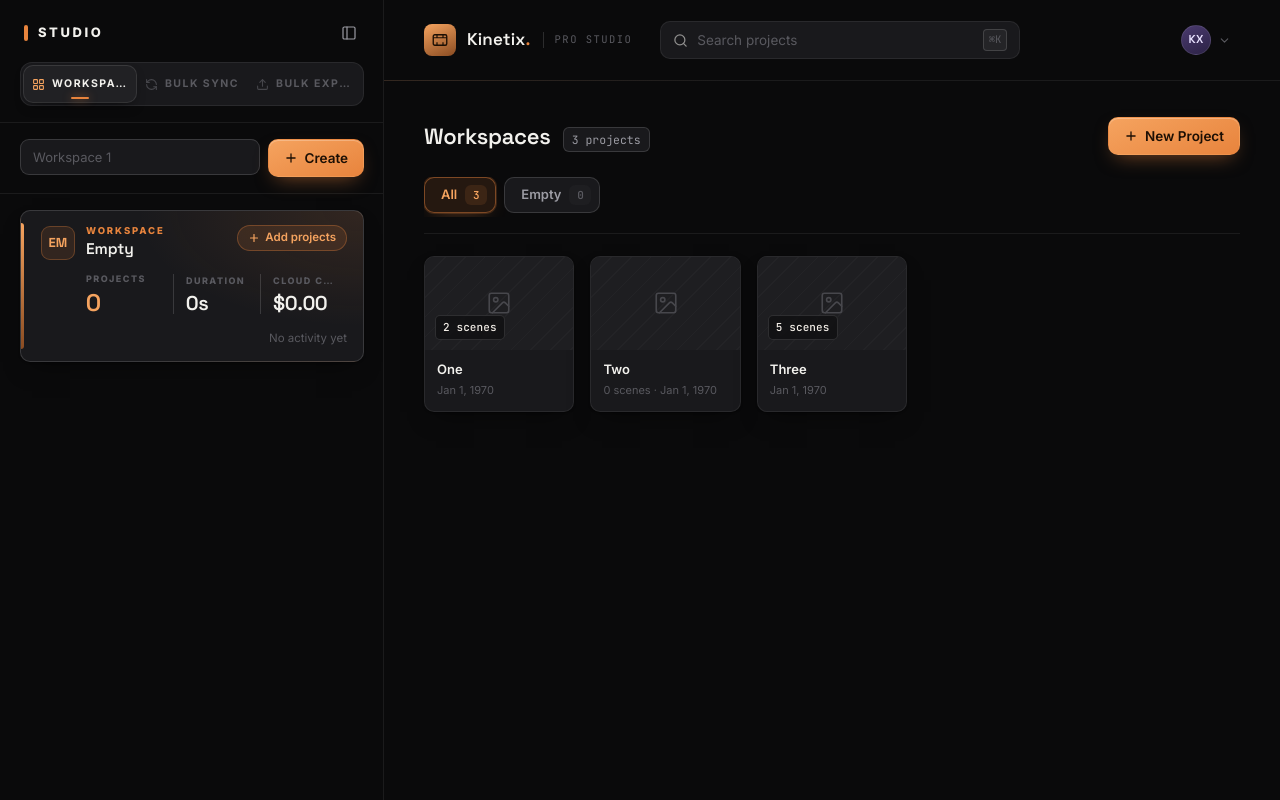
Test: right panel — workspace tabs above the grid › an empty workspace says so; card content is unchanged (title, scene badge)
Expected: the button with test id "project-card-p1" shows "One", [424,256,574,412]
Expected: the button with test id "project-card-p1" shows "2 scenes", [424,256,574,412]
Click the tab "Empty 0".
click(552, 195)  # box [504,177,600,213]
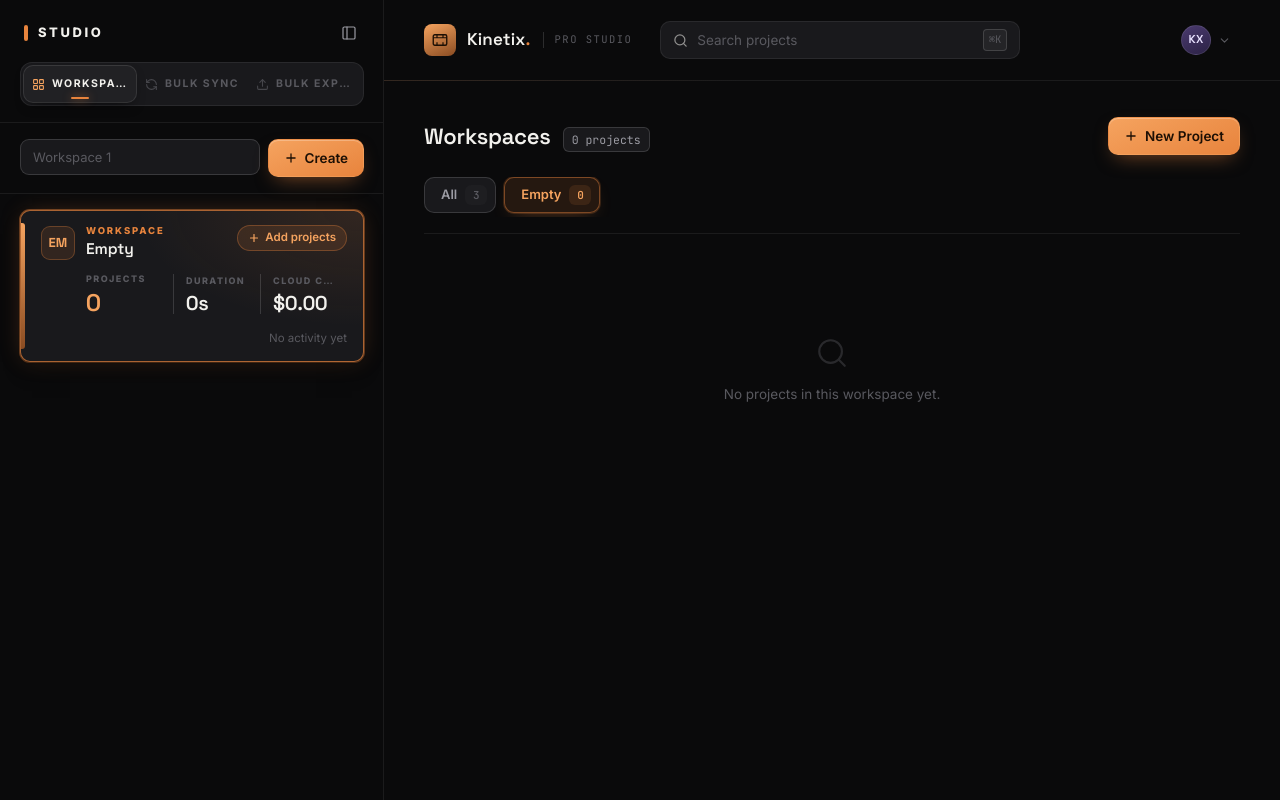
Result: the text "No projects in this workspace yet." is shown at [724,384,940,404]
